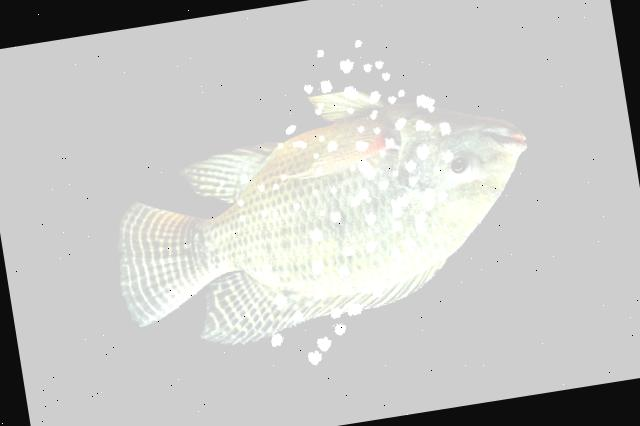Ichthyophthirius -White Spots-: (117, 87, 525, 343), (118, 87, 525, 343), (118, 88, 525, 342), (118, 91, 524, 343)
